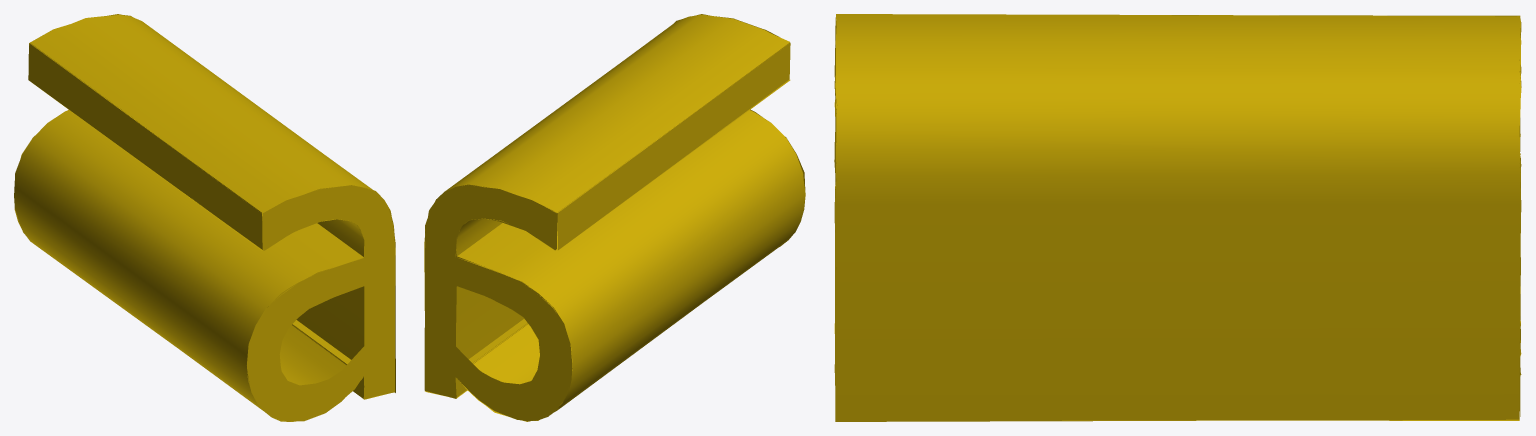
File: original_4.obj
The picture shows the model from 3 angles, left to right: view 1: azimuth 30°, elevation 25°; view 2: azimuth 150°, elevation 25°; view 3: azimuth 270°, elevation 25°; orthographic projection. The views are drawn at different scales.
Parts seen in each view (by area): view 1: #ID25; view 2: #ID25; view 3: #ID25.
Part boxes in pixels (left/top/right/bottom): #ID25: left=14, top=14, right=395, bottom=421; #ID25: left=424, top=14, right=805, bottom=421; #ID25: left=834, top=14, right=1521, bottom=421.
Size of the model in its own units: 0.0285 by 0.0417 by 0.0775.
